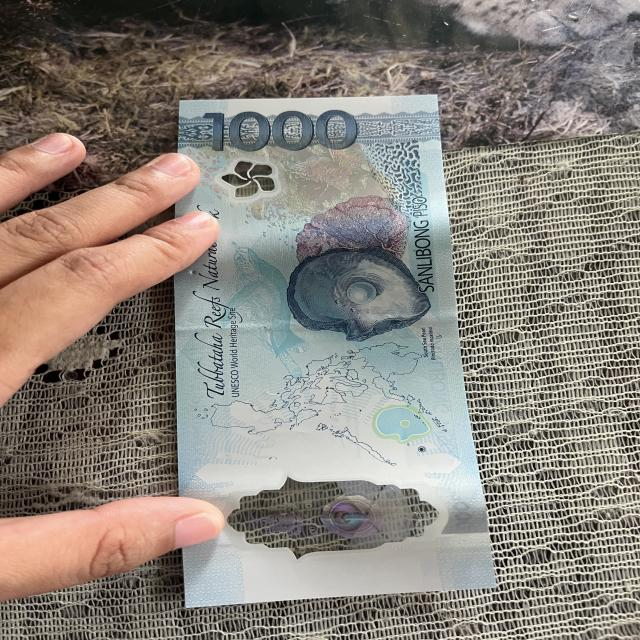clear_window: (174, 474, 484, 556)
sampaguita: (215, 149, 293, 209)
value: (199, 109, 363, 158)
value_watermark: (441, 483, 476, 537)
